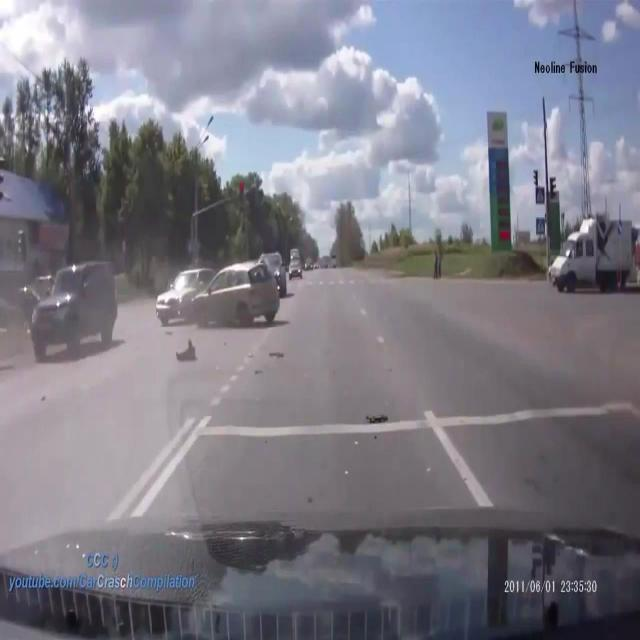multiple_accident: (143, 241, 291, 333)
